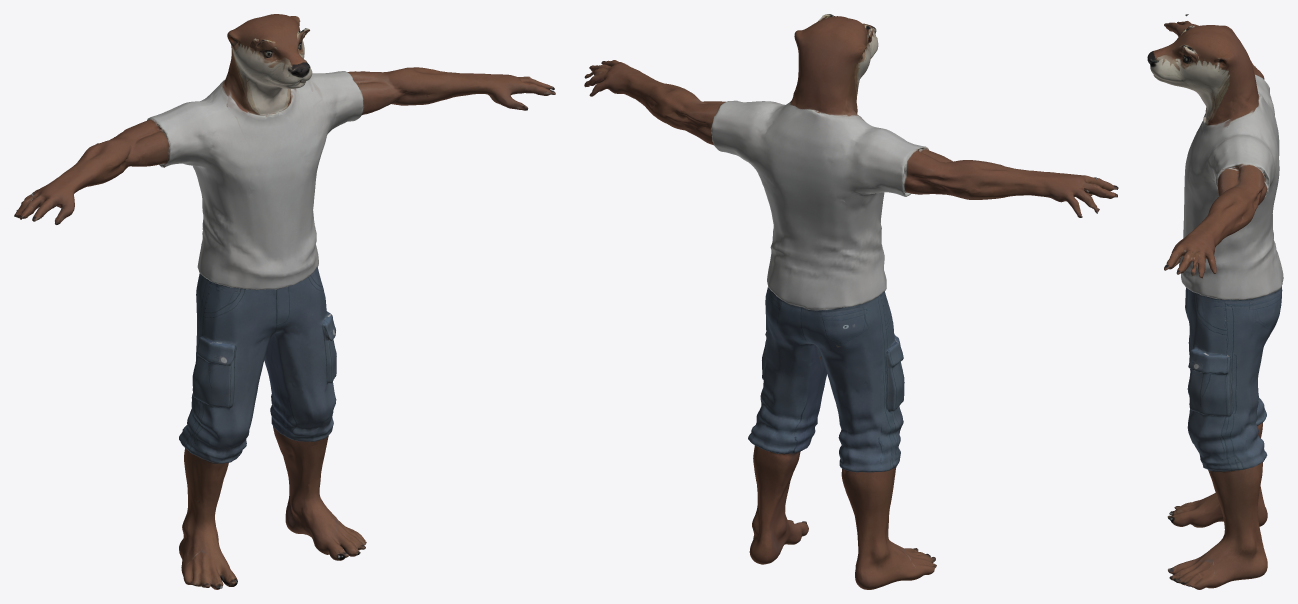
File: 12_Otter.fbx
3 views of the same model, side by side, from view 1: azimuth 30°, elevation 25°; view 2: azimuth 150°, elevation 25°; view 3: azimuth 270°, elevation 25° (orthographic). The views are drawn at different scales.
Visible parts, largest first — view 1: texture_mapping; view 2: texture_mapping; view 3: texture_mapping.
Boxes of the visible parts, box(x1,y1,x2,y2) form: texture_mapping: box(14, 14, 555, 589); texture_mapping: box(584, 14, 1118, 589); texture_mapping: box(1147, 14, 1283, 589).
Size of the model in its own units: 0.9964 by 0.9662 by 0.2282.
Materials: 1 (1 with a texture image).
